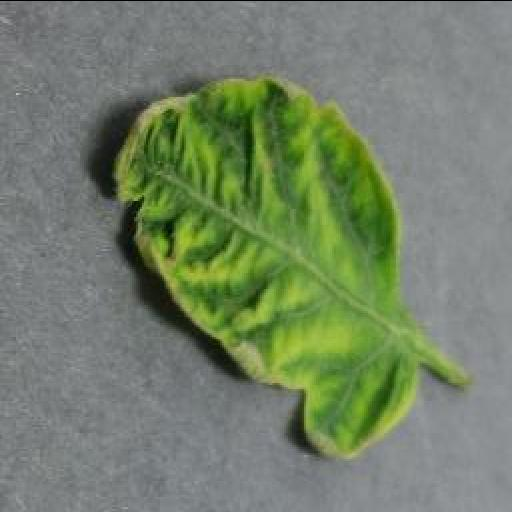disease_tomato: (110, 74, 418, 460)
